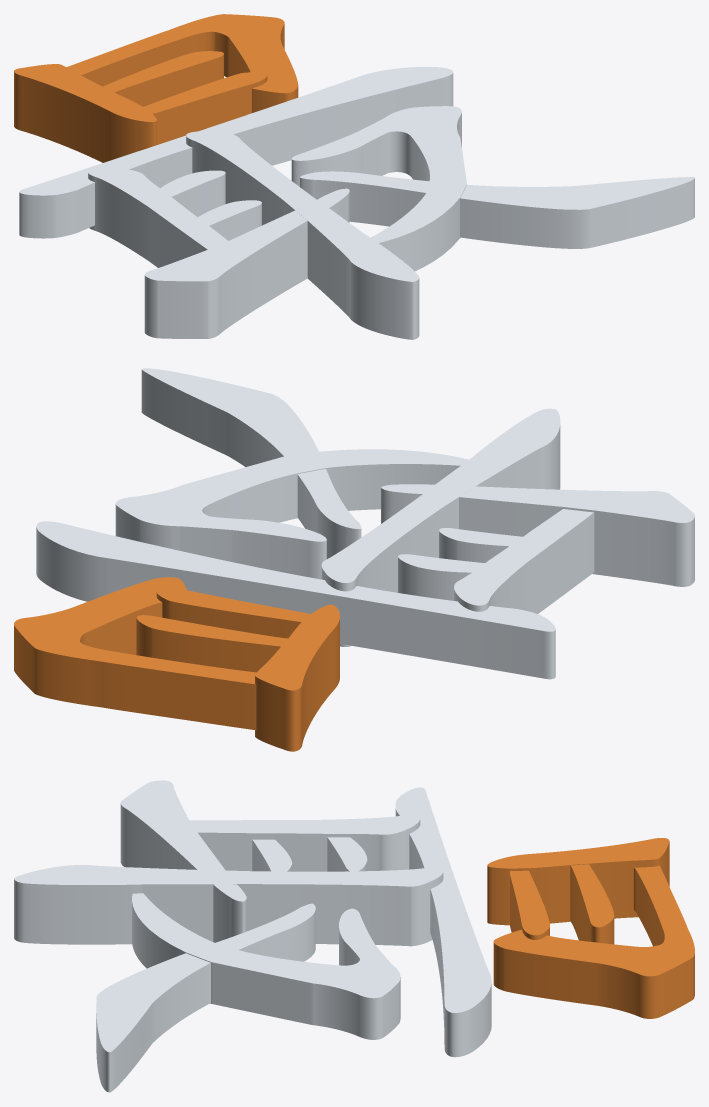
File: hanzi165.fbx
The picture shows the model from 3 angles, top to bottom: view 1: azimuth 30°, elevation 25°; view 2: azimuth 150°, elevation 25°; view 3: azimuth 270°, elevation 25°; orthographic projection. The views are drawn at different scales.
Visible parts, largest first — view 1: Curve.011, Curve.004, Curve.006, Curve.009, Curve.010, Curve.001, Curve, Curve.005, Curve.003, Curve.002, Curve.007, Curve.008; view 2: Curve.004, Curve.010, Curve.001, Curve.009, Curve.011, Curve.006, Curve.005, Curve, Curve.002, Curve.003, Curve.007, Curve.008; view 3: Curve.006, Curve.010, Curve.001, Curve.011, Curve.004, Curve.005, Curve, Curve.009, Curve.002, Curve.003, Curve.007, Curve.008.
Boxes of the visible parts, x1,y1,x2,y2 form: Curve.011: (300,171,694,248); Curve.004: (19,67,453,238); Curve.006: (186,131,419,339); Curve.009: (144,188,349,338); Curve.010: (291,106,466,271); Curve.001: (67,14,298,112); Curve: (14,64,156,162); Curve.005: (88,168,227,267); Curve.003: (143,72,267,144); Curve.002: (103,51,223,106); Curve.007: (160,170,225,216); Curve.008: (198,200,261,240); Curve.004: (36,521,555,679); Curve.010: (115,449,468,579); Curve.001: (14,577,256,730); Curve.009: (381,484,694,586); Curve.011: (141,368,361,558); Curve.006: (321,408,560,646); Curve.005: (454,509,594,613); Curve: (255,604,339,751); Curve.002: (136,615,287,672); Curve.003: (156,588,310,638); Curve.007: (398,554,484,600); Curve.008: (439,528,522,562); Curve.006: (14,865,443,946); Curve.010: (132,893,400,1039); Curve.001: (493,865,694,1018); Curve.011: (96,903,315,1092); Curve.004: (395,787,491,1057); Curve.005: (189,814,420,871); Curve: (487,838,669,925); Curve.009: (120,780,246,942); Curve.002: (570,864,614,944); Curve.003: (510,870,549,939); Curve.007: (327,837,367,871); Curve.008: (252,839,292,871).
Size of the model in its own units: 22.46 by 24.59 by 2.37.
